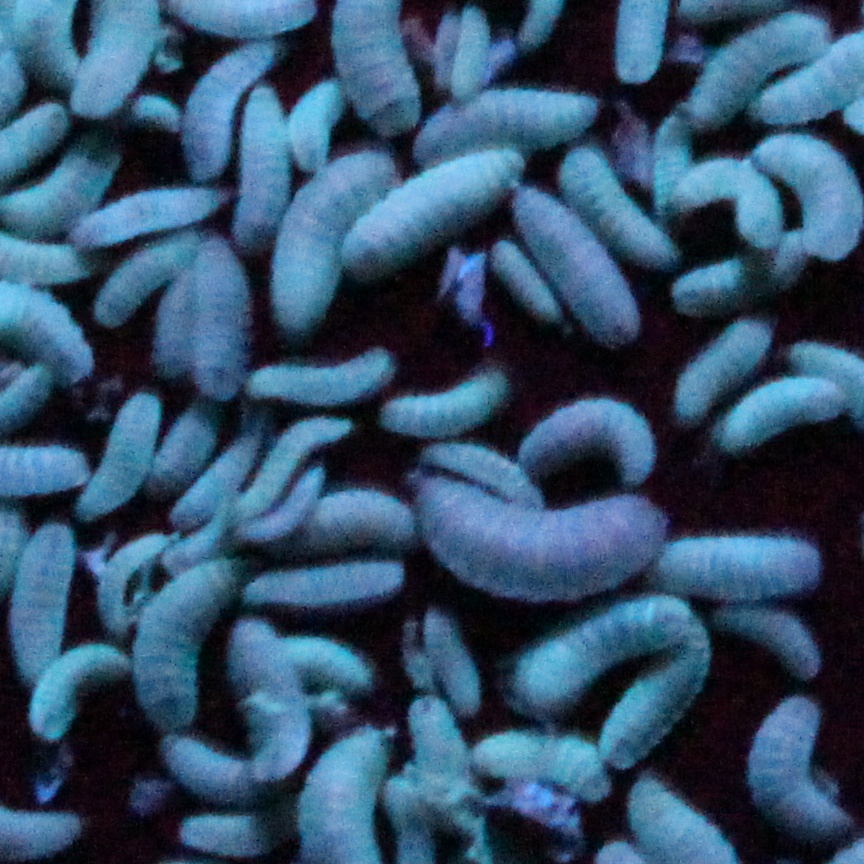larve: (409, 478, 673, 599), (352, 150, 522, 275), (514, 603, 693, 711), (278, 165, 394, 331), (135, 553, 237, 726), (524, 190, 631, 342), (745, 698, 845, 842), (688, 19, 816, 126), (188, 39, 276, 181), (599, 647, 711, 758), (563, 149, 672, 263), (6, 517, 77, 677), (240, 422, 357, 514), (417, 98, 599, 157), (647, 542, 826, 601), (237, 619, 298, 785), (73, 185, 231, 247), (468, 732, 603, 801), (103, 222, 201, 317), (83, 396, 157, 519), (517, 403, 652, 468), (380, 368, 506, 437), (667, 240, 803, 303), (401, 706, 485, 806), (721, 381, 842, 450), (28, 640, 113, 737), (245, 347, 391, 403), (716, 593, 814, 672), (240, 560, 404, 606), (685, 158, 778, 239), (201, 237, 247, 394), (683, 322, 758, 414), (235, 90, 280, 242), (175, 442, 255, 527), (296, 490, 408, 547), (94, 537, 162, 627), (240, 468, 326, 535), (280, 637, 376, 693), (429, 450, 537, 499), (157, 398, 212, 493), (422, 614, 475, 711), (173, 745, 257, 803), (493, 244, 553, 322), (153, 260, 194, 365), (444, 9, 488, 98), (296, 75, 335, 168), (660, 119, 694, 212), (180, 817, 268, 849)
